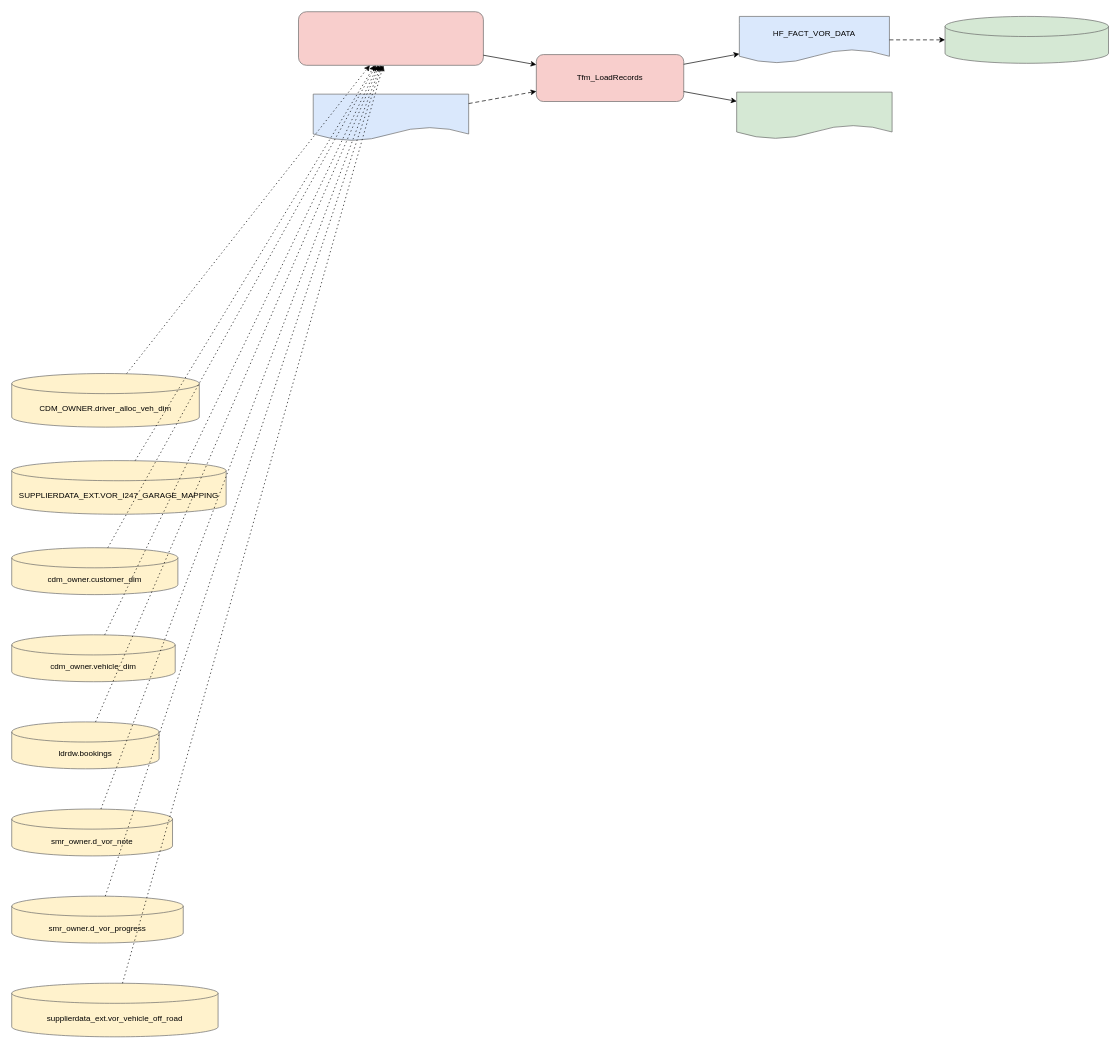
The diagram is 1120 pixels wide and 1049 high, and some of its shapes have lost their labels. Here are the shapes that lost their labels. From the top down, the centre of each, then its label:
At pixel 390 38: "ORA_Ext_Vehicle_Off_Road_Data".
At pixel 1026 39: "Ora_StgVehicleOffRoad".
At pixel 391 117: "HF_SMR_VEHICLE_DIM".
At pixel 814 115: "Supp_VOR_Exception".
